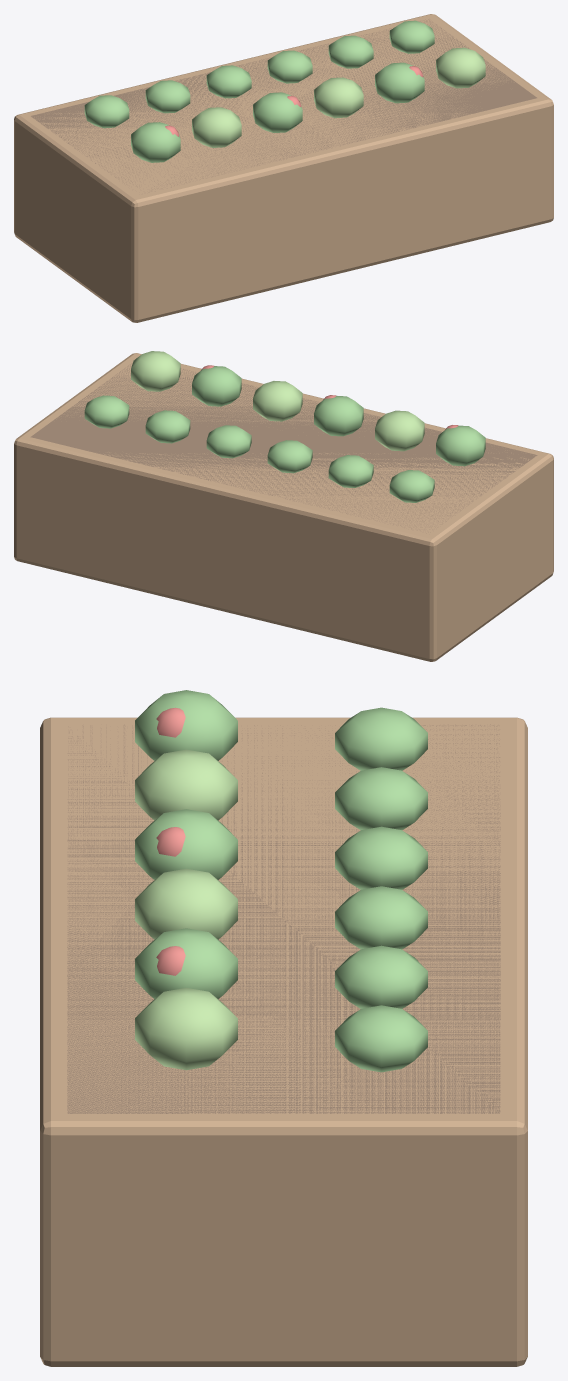
Rendered from canteiro_horta.glb.
The picture shows the model from 3 angles, top to bottom: view 1: azimuth 30°, elevation 25°; view 2: azimuth 150°, elevation 25°; view 3: azimuth 270°, elevation 25°; orthographic projection. The views are drawn at different scales.
Parts seen in each view (by area): view 1: canteiro_horta; view 2: canteiro_horta; view 3: canteiro_horta.
Boxes of the visible parts, x1,y1,x2,y2 form: canteiro_horta: (14, 14, 553, 322); canteiro_horta: (14, 351, 553, 661); canteiro_horta: (40, 690, 527, 1366).
Size of the model in its own units: 1.8 by 0.65 by 0.9.
